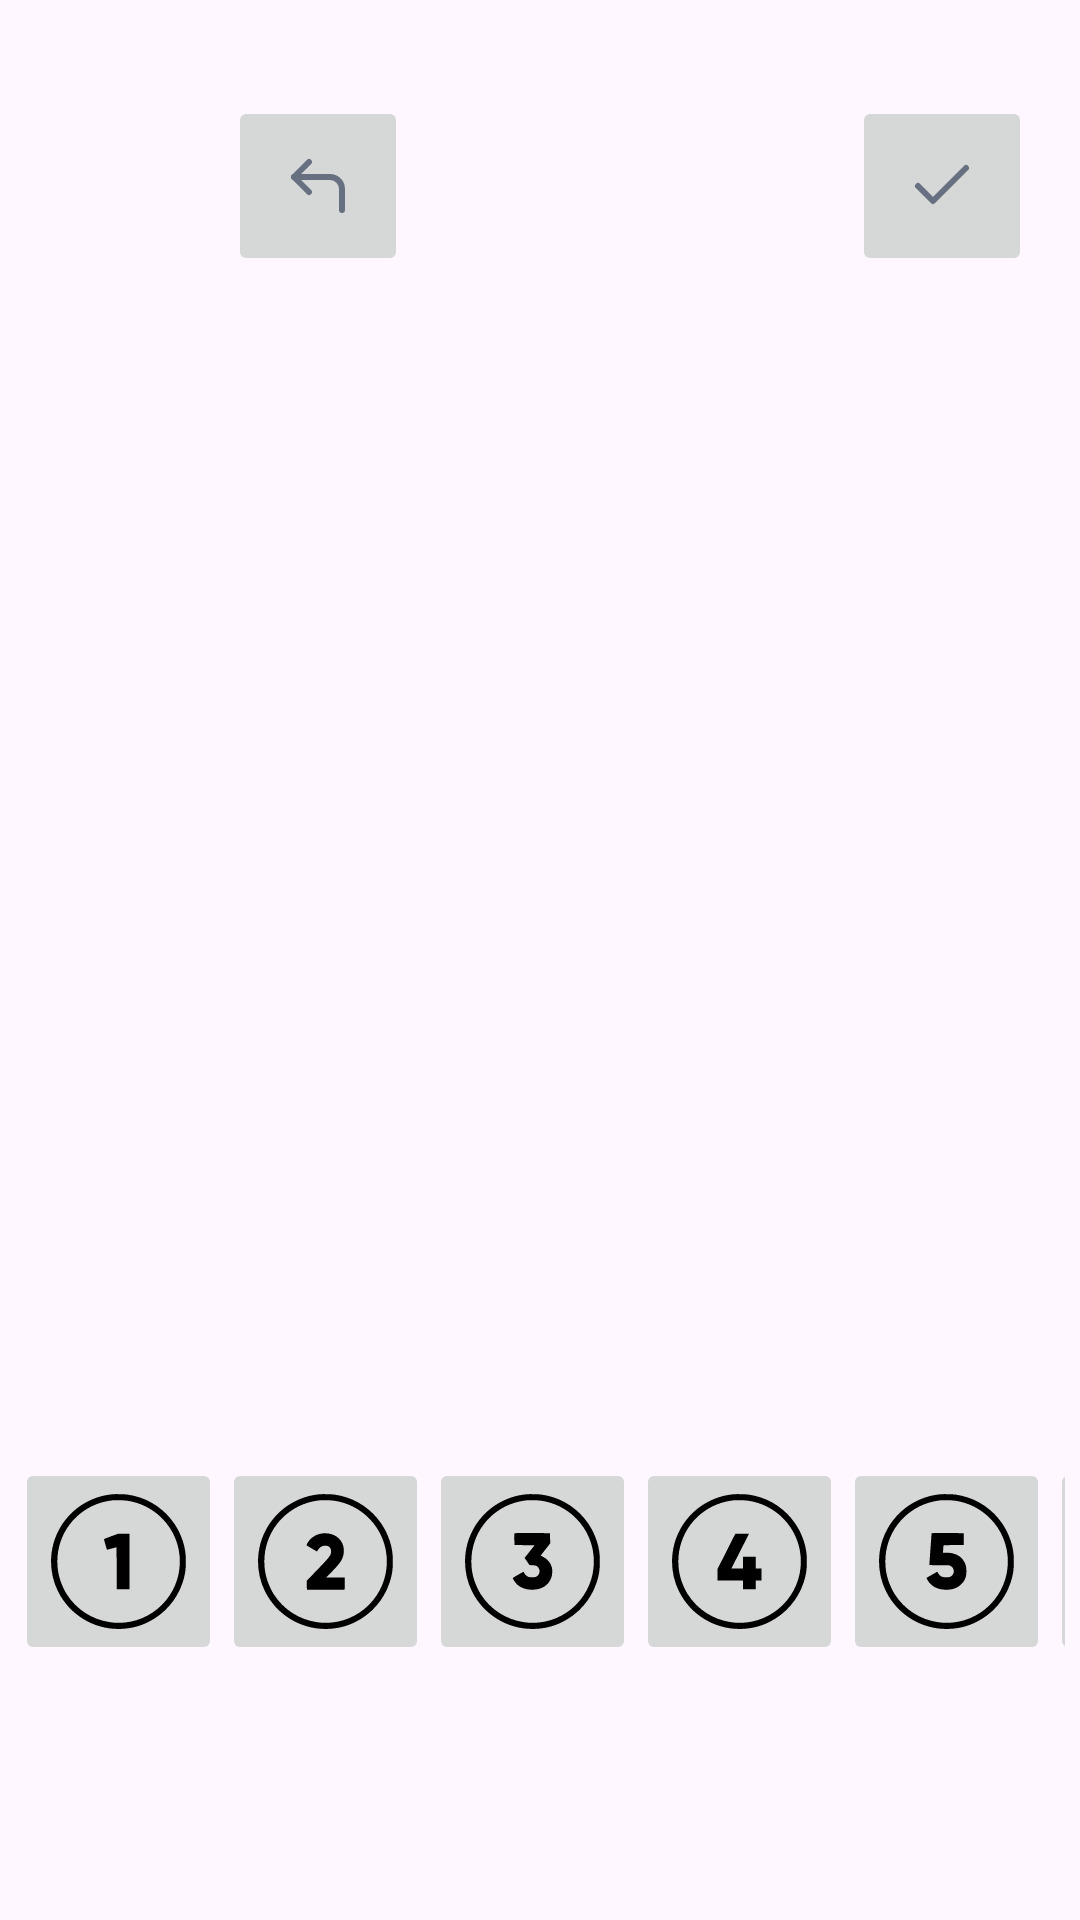

Icons on this 1080*1920 Android screen, each with its box as [x1=x1, y1=y1, x2=x2, y2=y2]:
check: [x1=864, y1=114, x2=1020, y2=258]
corner up left: [x1=240, y1=114, x2=396, y2=258]
